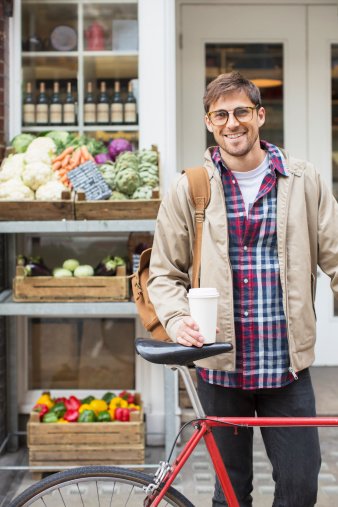em pe: (133, 65, 334, 464)
